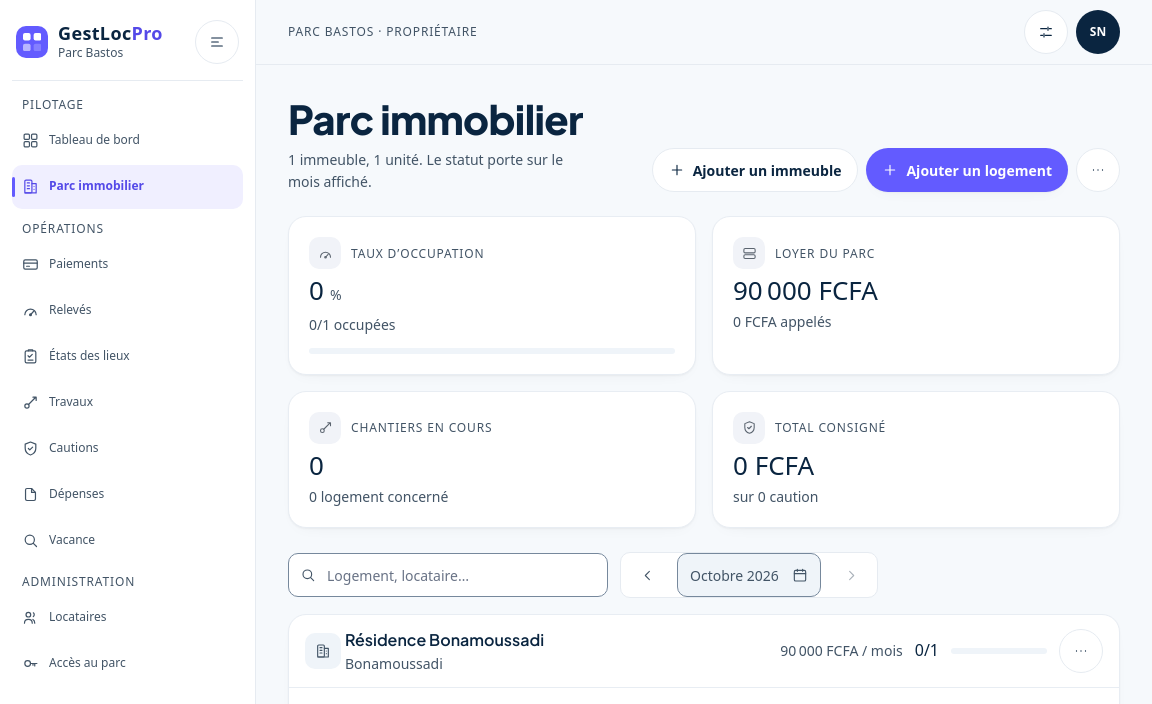
Test case: l’heure de la relance › disparaît avec l’interrupteur, plutôt que de rester grisée
The width and height of the screenshot is (1152, 704).
Step 1. Click the button named "Autres actions" → (1098, 170), box [1076,148,1120,192]
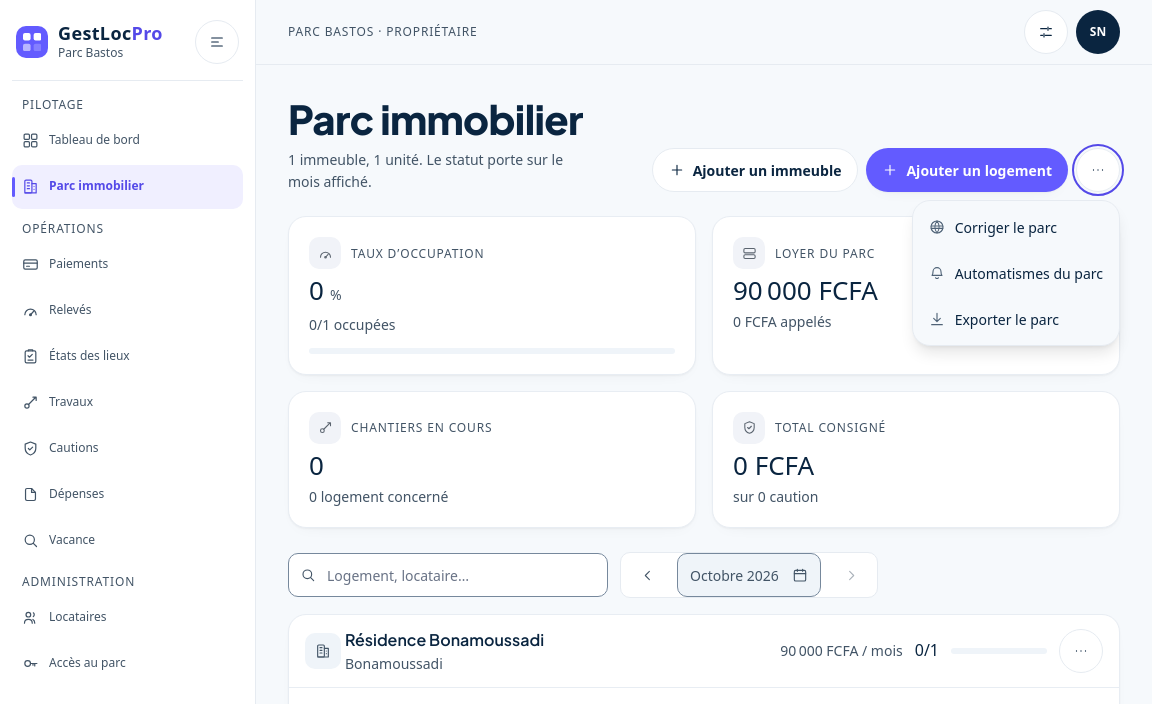
Step 2. Click the menu item "Automatismes du parc" → (1016, 273), box [917,251,1115,295]
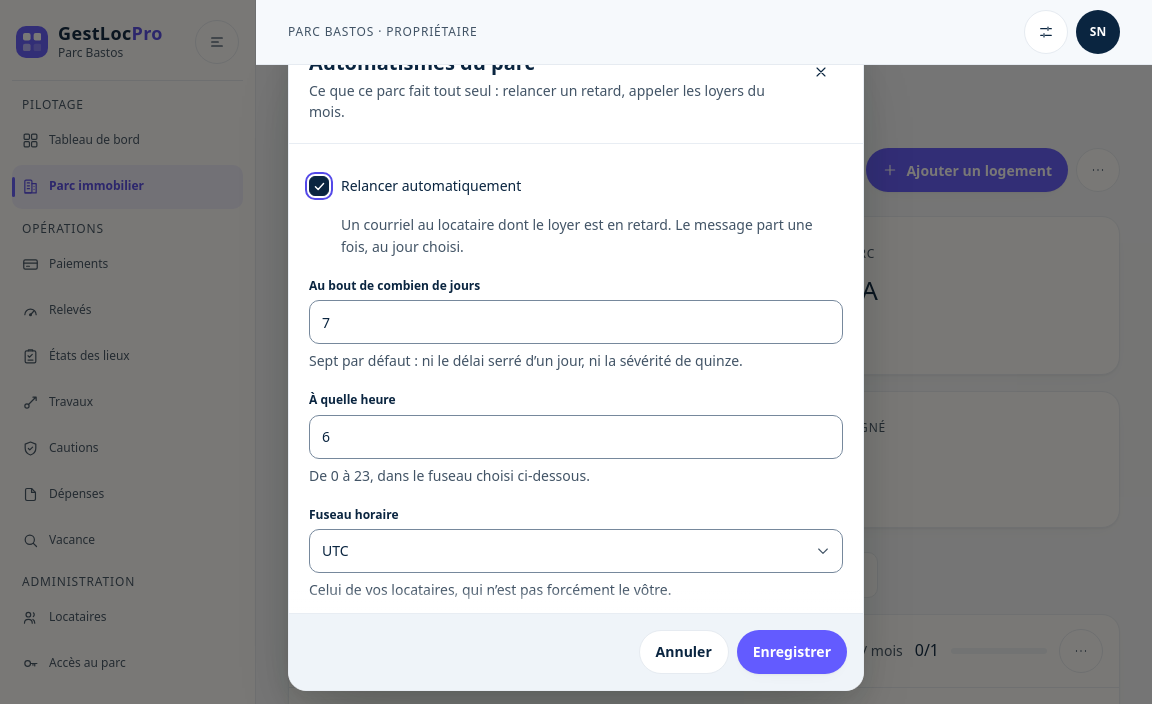
Expected: the number field labelled "À quelle heure" is shown, [309,415,843,459]
Step 3. Click the checkbox labelled "Relancer automatiquement" → (319, 186), box [309,176,329,196]
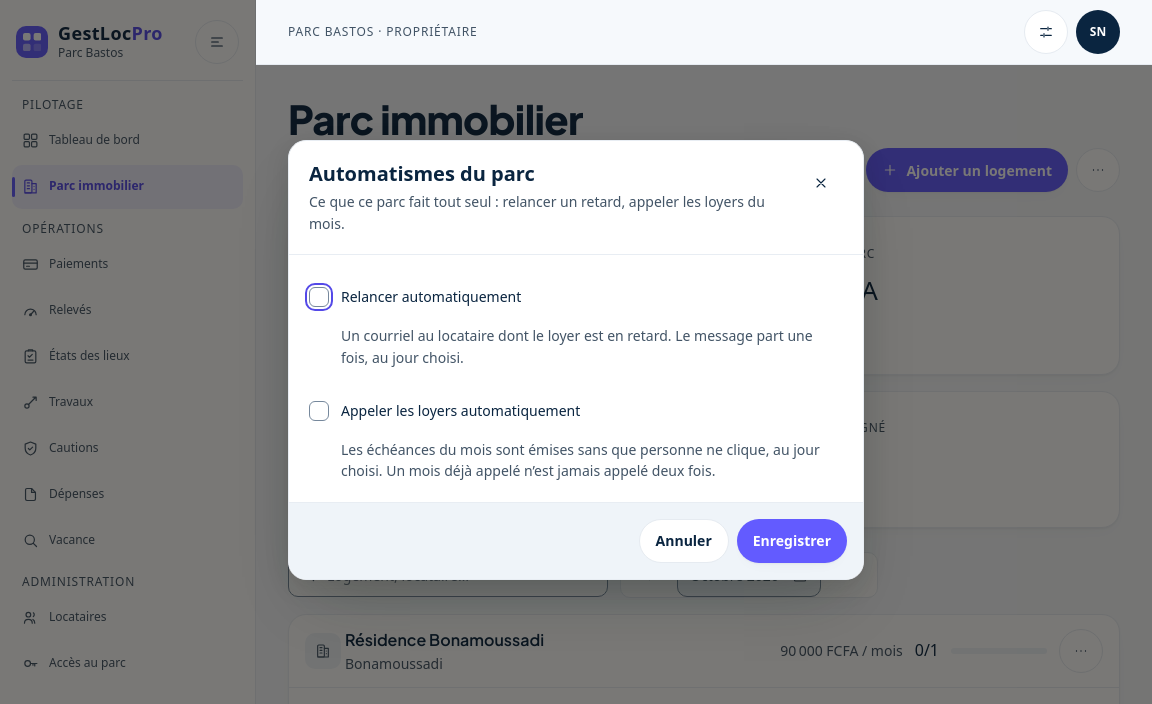
Expected: the label "heure" is gone
Expected: the text "fuseau" is gone
